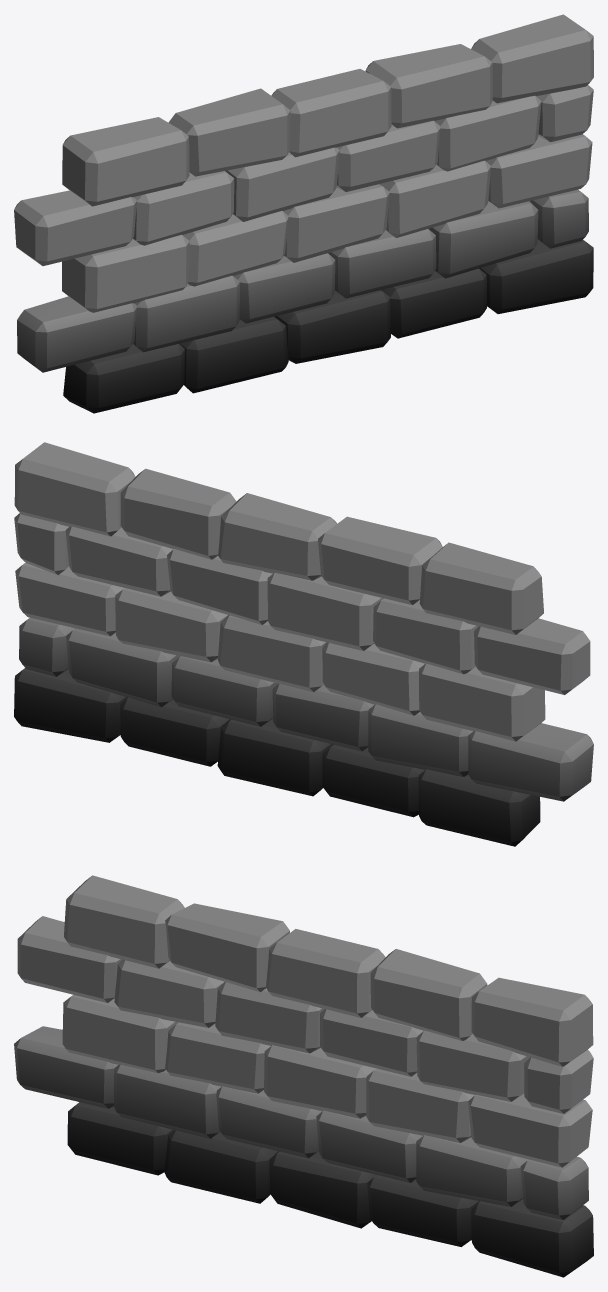
Rendered from BrickWall2x1_01_End_L.fbx.
3 renders of one model, top to bottom at view 1: azimuth 30°, elevation 25°; view 2: azimuth 150°, elevation 25°; view 3: azimuth 330°, elevation 25°, orthographic.
Visible parts, largest first — view 1: BrickWall2x1_01_End_L; view 2: BrickWall2x1_01_End_L; view 3: BrickWall2x1_01_End_L.
Boxes of the visible parts, bbox=[...] form: BrickWall2x1_01_End_L: bbox=[14, 14, 593, 413]; BrickWall2x1_01_End_L: bbox=[14, 442, 593, 846]; BrickWall2x1_01_End_L: bbox=[14, 875, 593, 1277].
Bounding box in the file's own units: 221 × 101 × 21.84.
